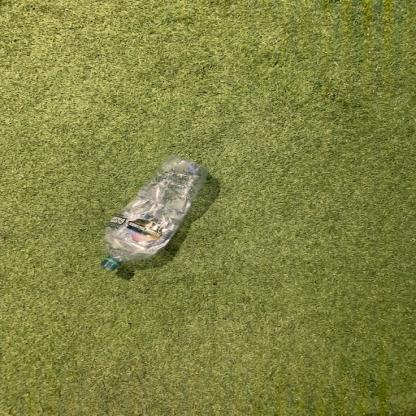trash: (90, 152, 209, 281)
